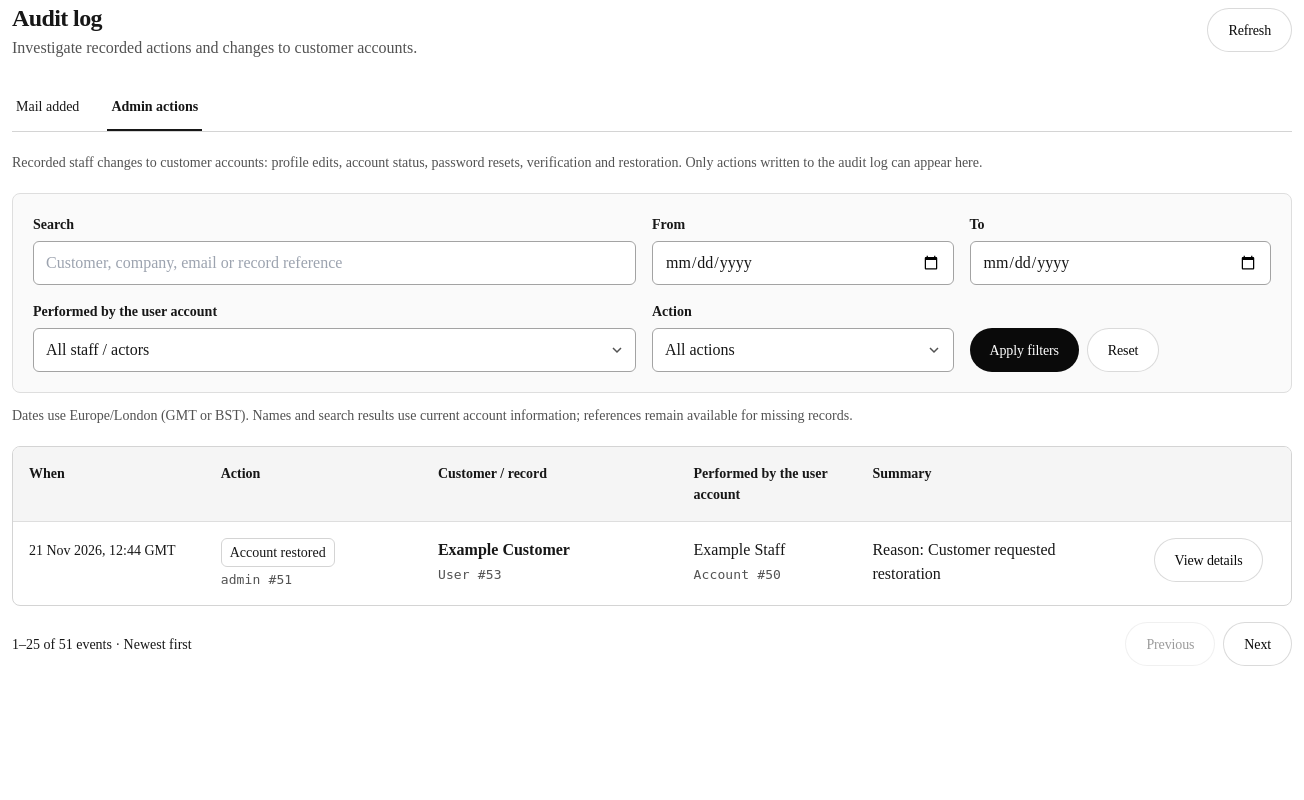
audit investigation › switches to the actual mail source, supports keyboard tabs and missing actors / targets
Click the tab "Mail added": (48, 108) [12,84,83,131]
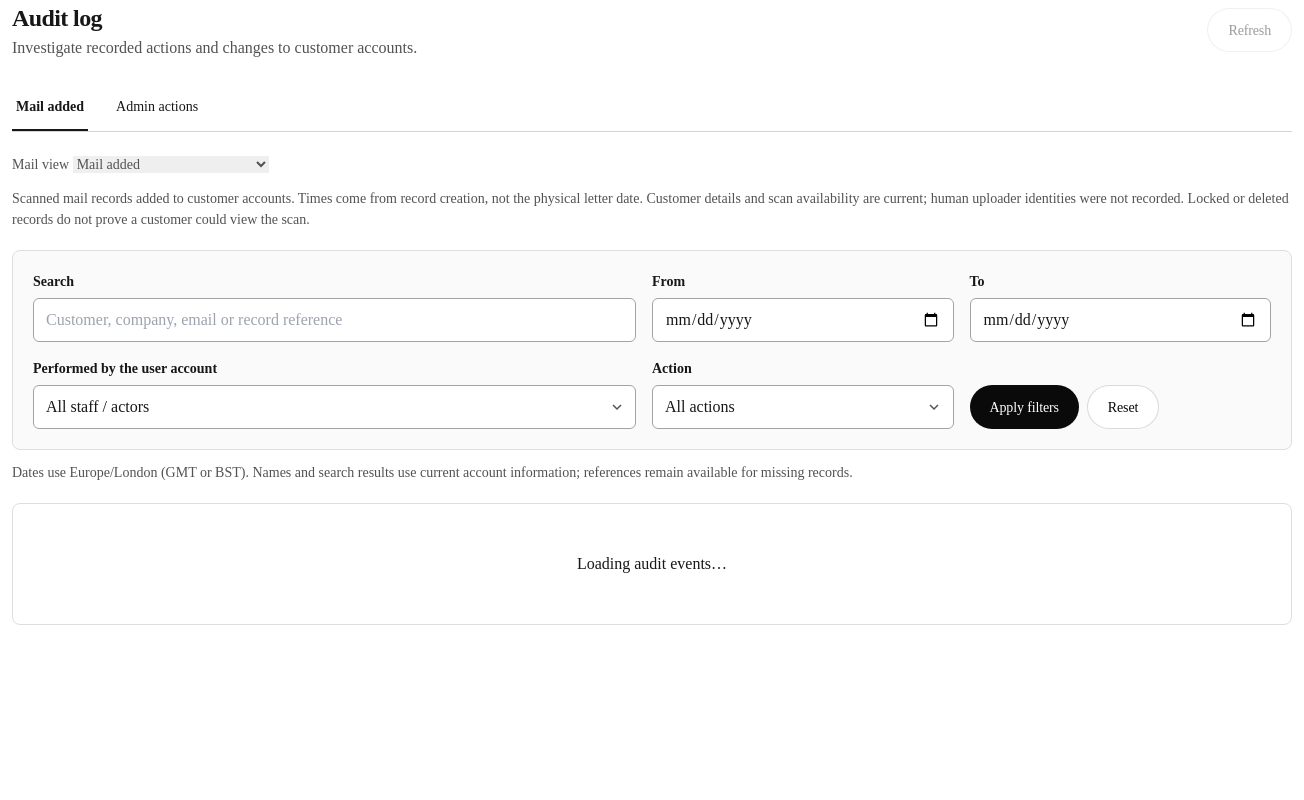
Select "Mail changes (troubleshooting)" in the dropdown labelled "Mail view": (171, 164) [73,156,269,173]
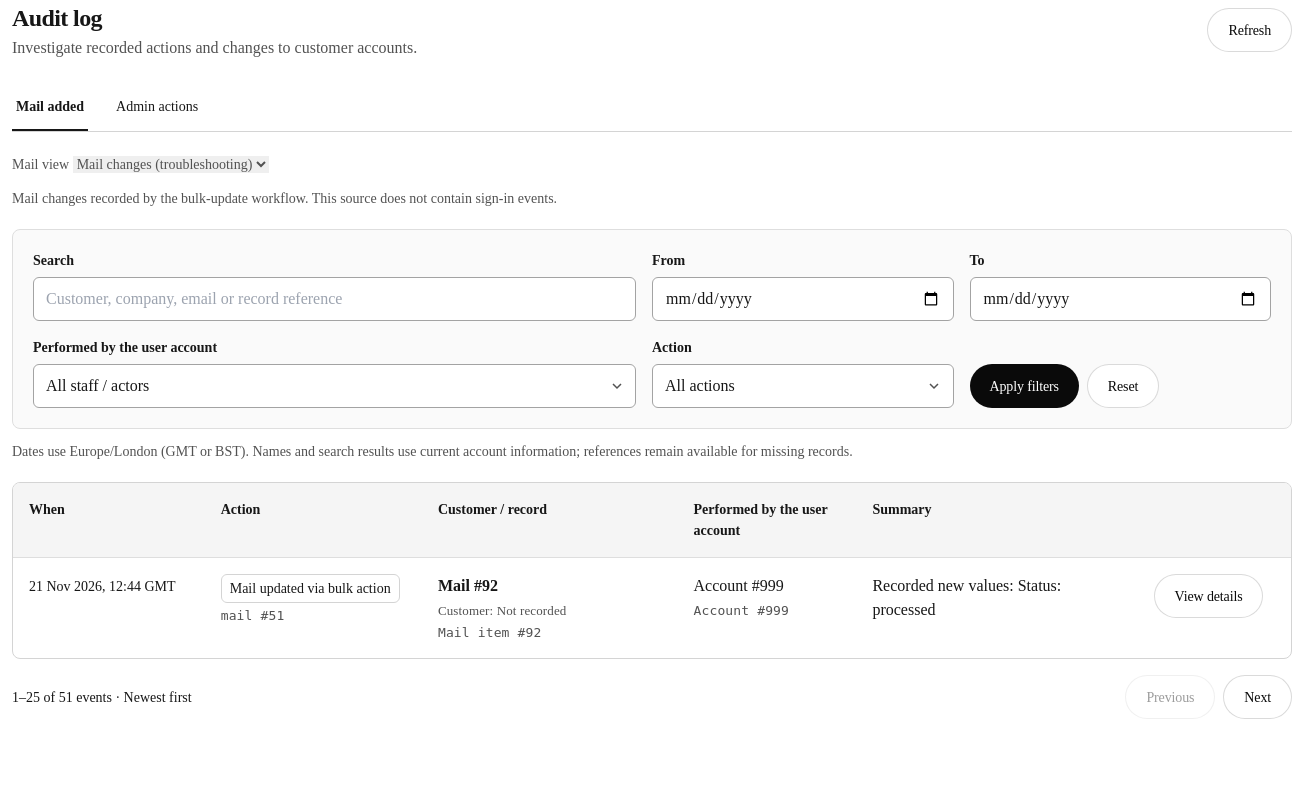
Expected: the button with aria-label "View details for mail event" is shown, [1154,574,1264,618]
Expected: the text "Mail #92" is shown, [438,577,498,594]
Expected: the text "Account #999" is shown, [694,577,784,594]
